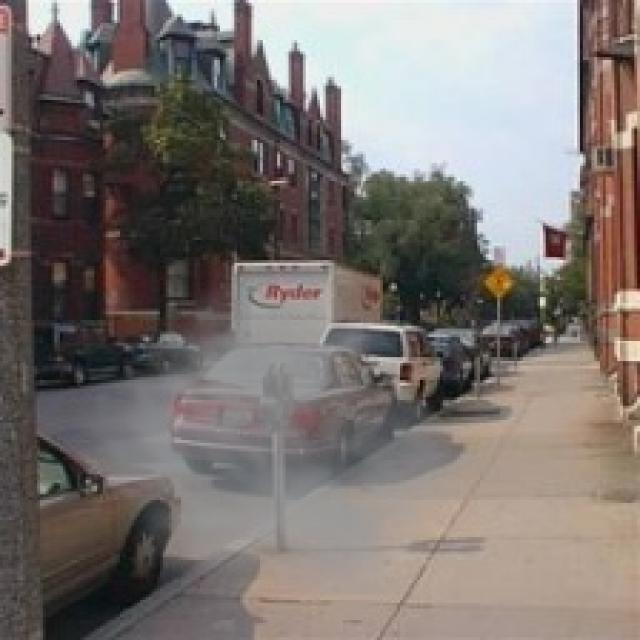Smoke: (63, 248, 480, 594)
